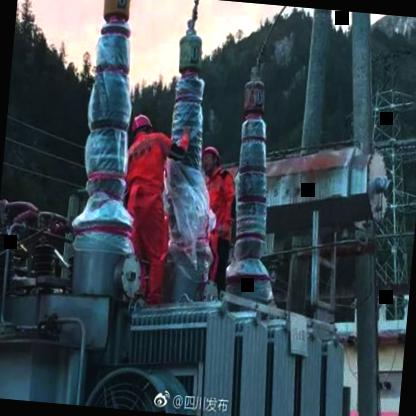helmet: (198, 141, 222, 176), (130, 112, 156, 141)
